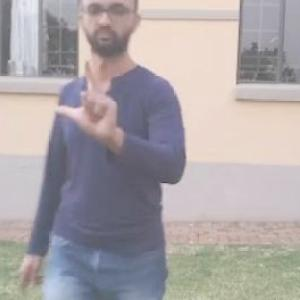land_hand: (51, 49, 125, 143)
